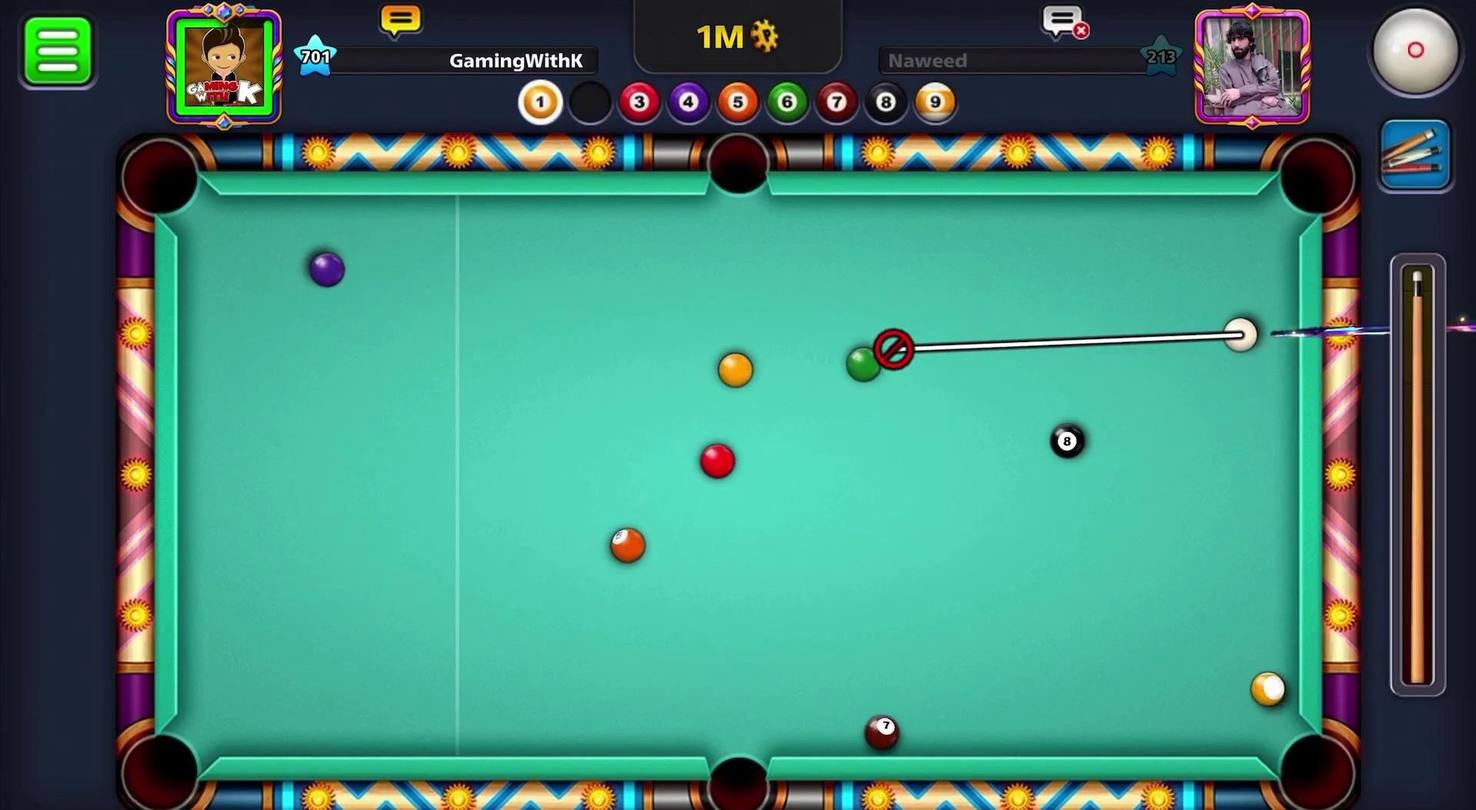Ball: (601, 523, 654, 570), (1042, 415, 1092, 464), (854, 712, 905, 755), (305, 248, 352, 293), (696, 441, 738, 482), (715, 349, 756, 390), (843, 344, 885, 384), (1248, 669, 1288, 706)
Force: (1388, 247, 1452, 702)
Guideline: (873, 318, 1258, 370)
Hole: (110, 124, 222, 236), (1267, 127, 1365, 230), (1264, 715, 1364, 809), (111, 719, 210, 809), (696, 123, 782, 206), (685, 739, 785, 809)
Play_Area: (175, 194, 1296, 763)
Spin: (1348, 0, 1475, 110)
White: (1224, 310, 1267, 360)
